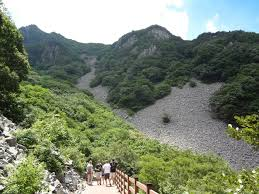mountain: (5, 22, 259, 193)
